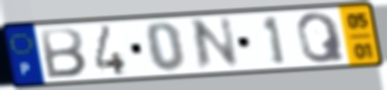0: (143, 20, 189, 74)
1: (261, 13, 286, 67)
4: (93, 24, 129, 77)
B: (38, 26, 89, 80)
N: (189, 15, 242, 74)
Q: (294, 11, 348, 66)
